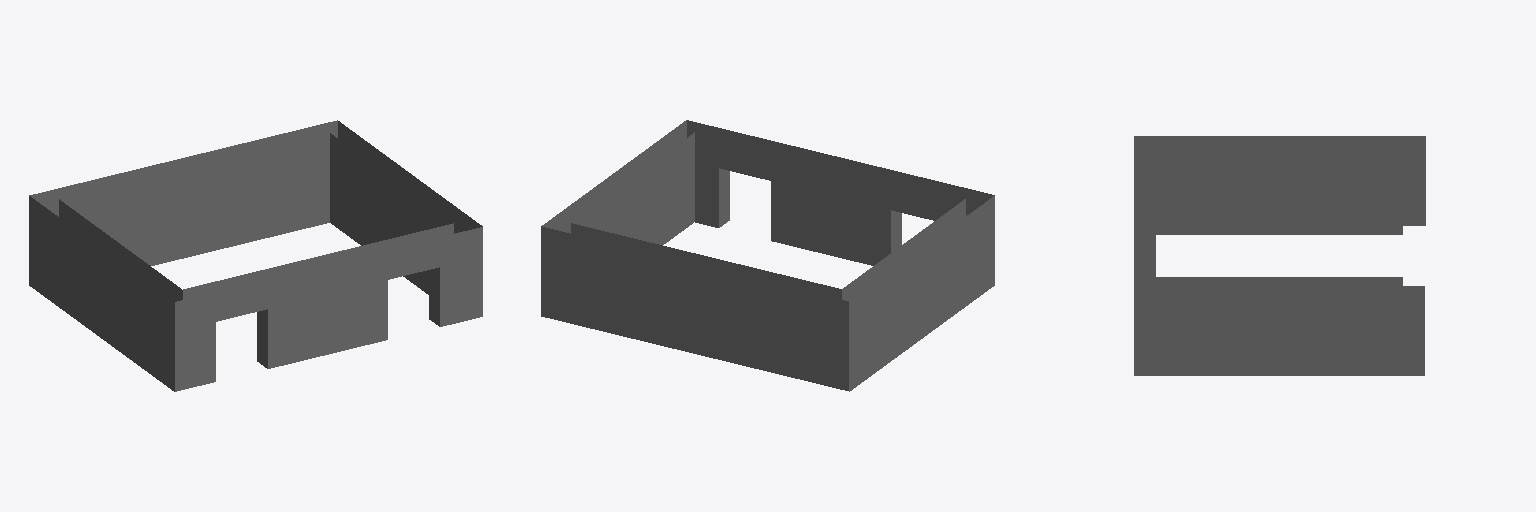
File: test_wall_col.obj
3 views of the same model, side by side, from view 1: azimuth 30°, elevation 25°; view 2: azimuth 150°, elevation 25°; view 3: azimuth 270°, elevation 25° (orthographic).
Visible parts, largest first — view 1: collider.002; view 2: collider.002; view 3: collider.002.
Part boxes in pixels (left/top/right/bottom): collider.002: left=29, top=120, right=482, bottom=391; collider.002: left=541, top=120, right=994, bottom=391; collider.002: left=1134, top=136, right=1425, bottom=375.
Bounding box in the file's own units: 118 × 33 × 96.8.